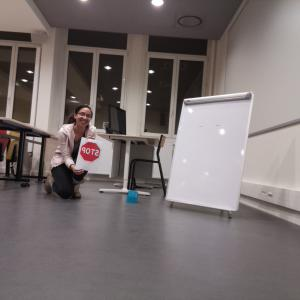stop: (80, 140, 100, 161)
